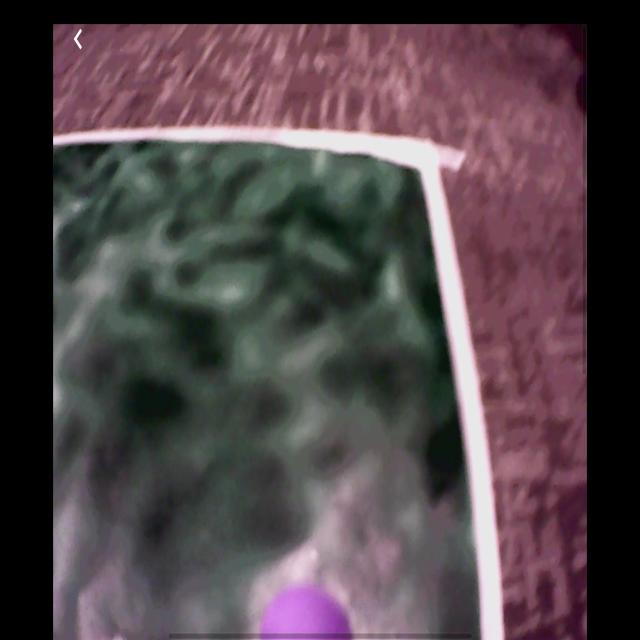ball: (261, 586, 354, 640)
